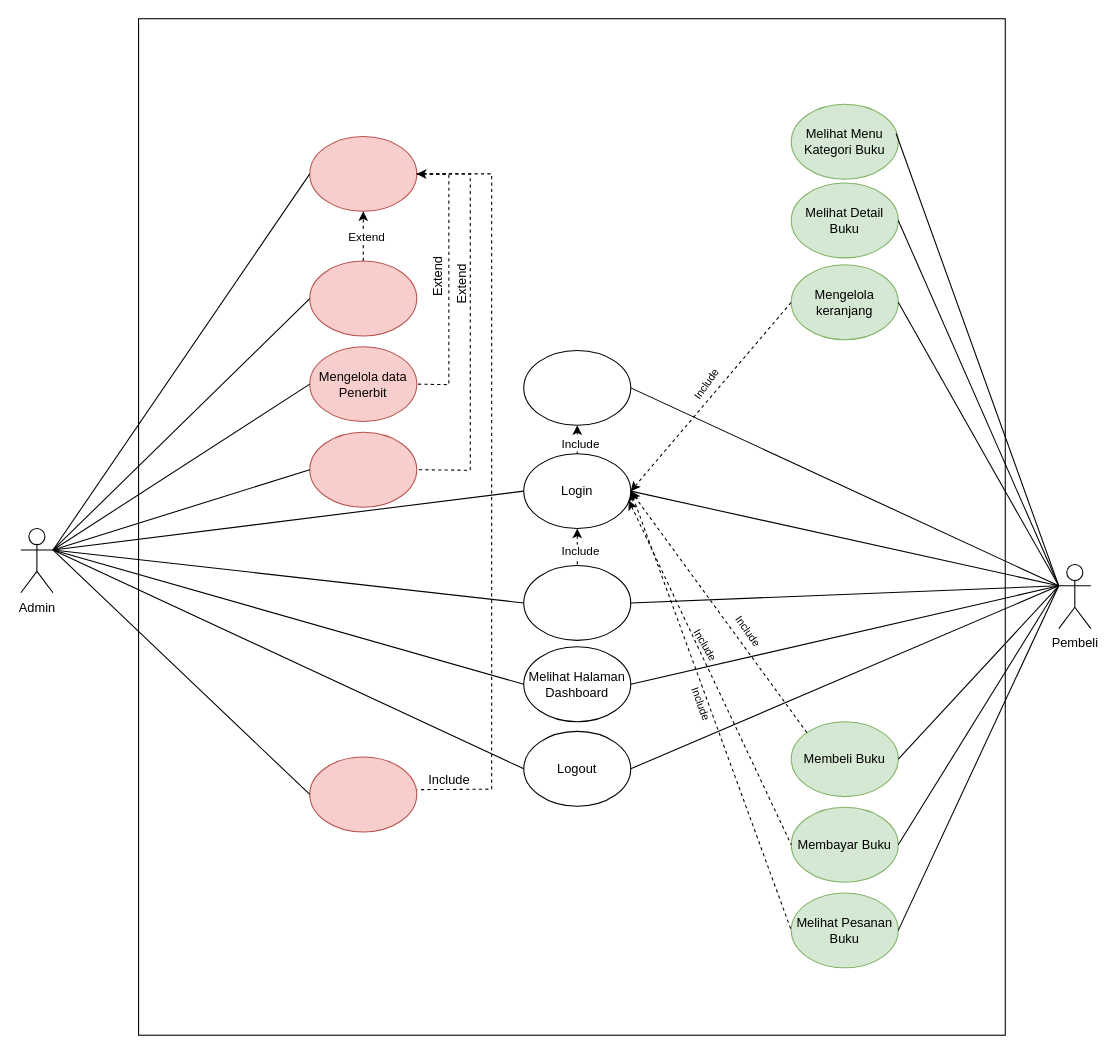
The diagram is 1116 pixels wide and 1054 high, and some of its shapes have lost their labels. Here are the shapes that lost their labels. From the top down, the box of each, then its label:
(309, 135, 417, 211): Mengelola data Buku
(309, 260, 417, 336): Mengelola data Kategori
(523, 349, 631, 425): Registrasi
(309, 431, 417, 507): Mengelola data Penulis
(523, 564, 631, 640): Mengelola data Akun Pribadi
(309, 756, 417, 832): Mengelola data Stok Barang
